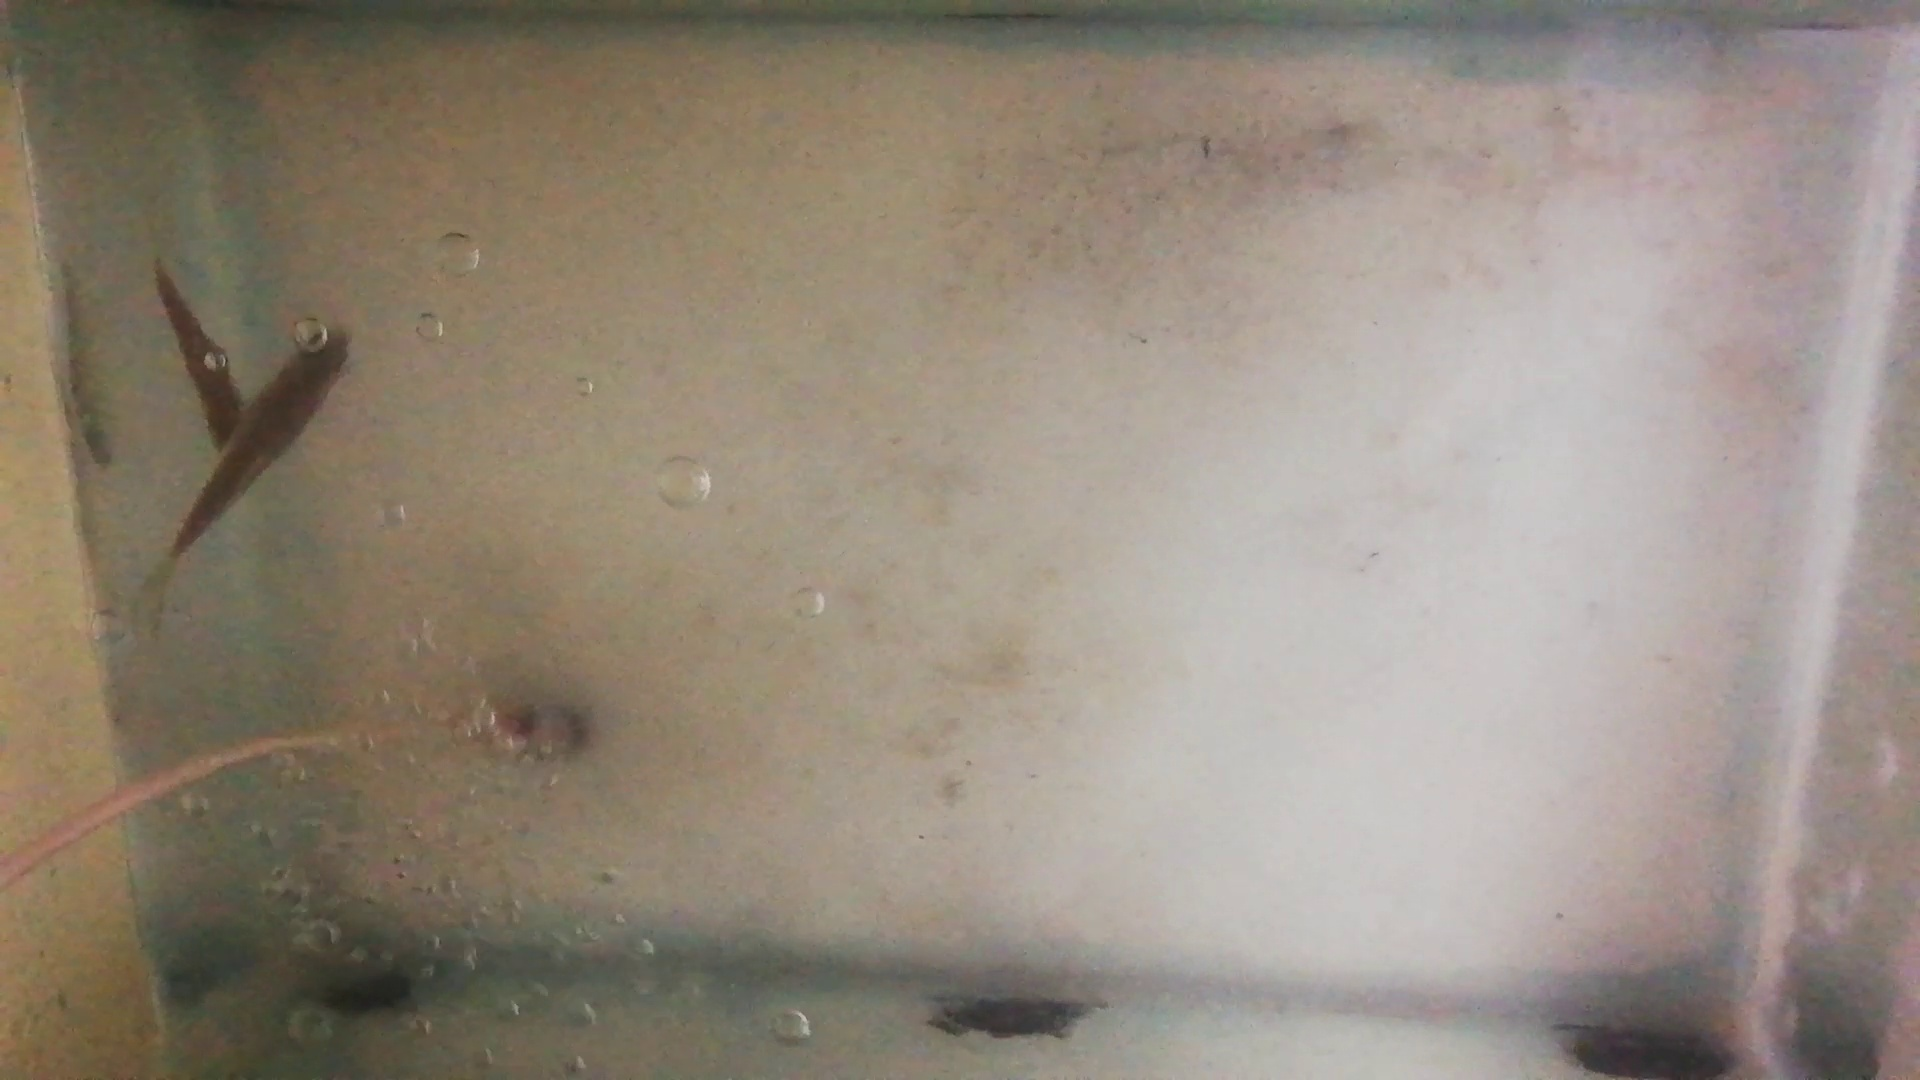fish: (174, 330, 356, 558), (152, 262, 251, 452)
